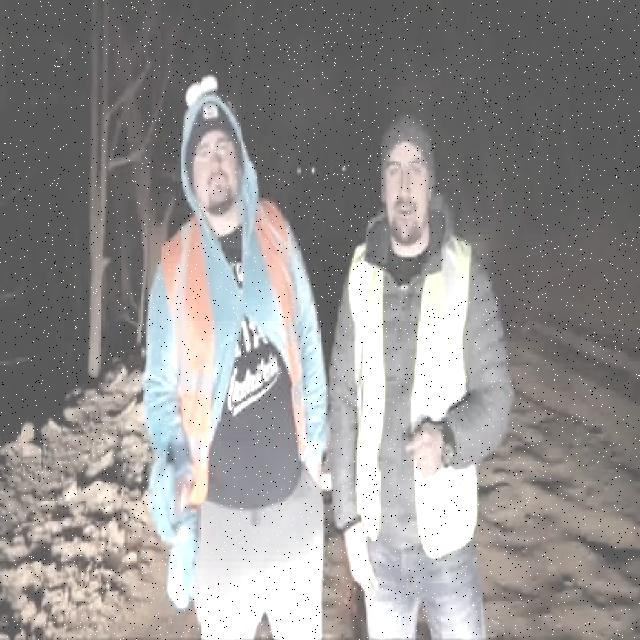Mask: (161, 200, 307, 506), (348, 238, 478, 560)
